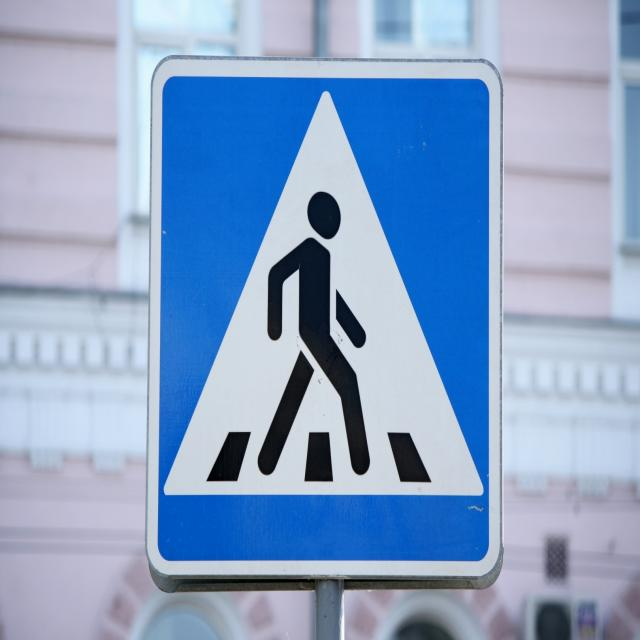Traffic sign: (142, 49, 508, 591)
